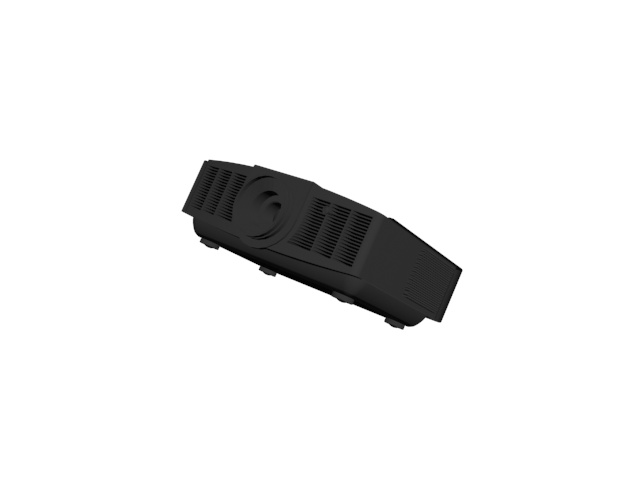projector: (177, 153, 464, 336)
